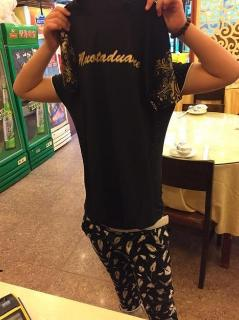short sleeve top: (59, 0, 182, 230)
trousers: (82, 207, 179, 319)
